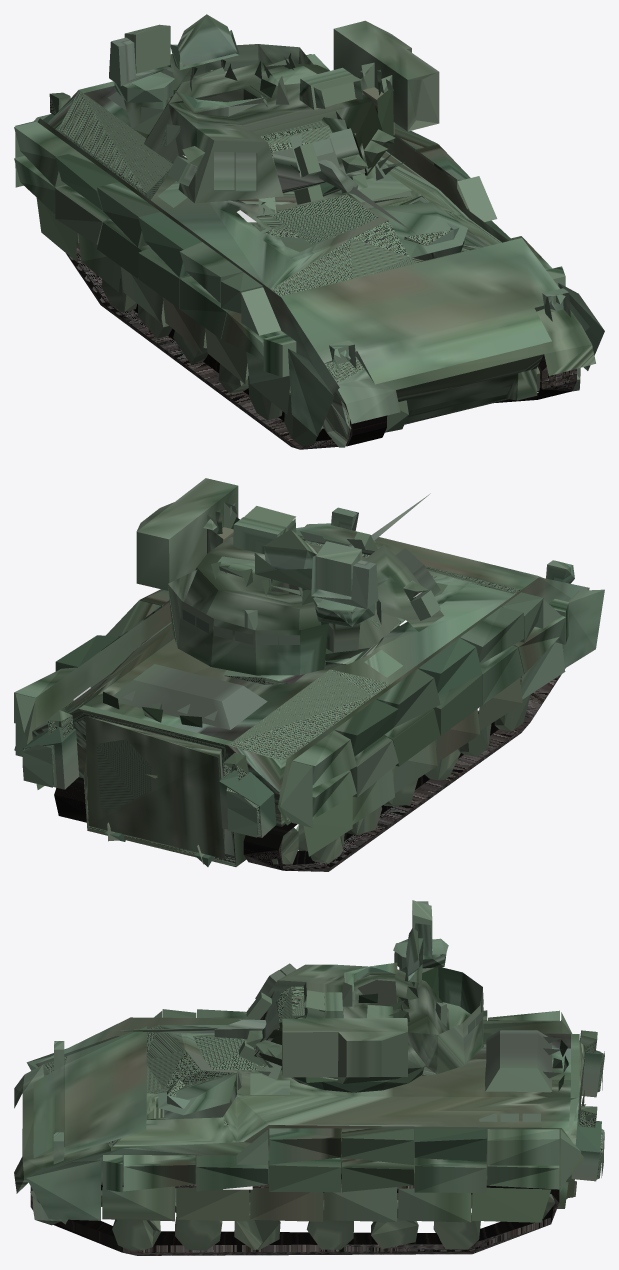
The picture shows the model from 3 angles, top to bottom: view 1: azimuth 30°, elevation 25°; view 2: azimuth 150°, elevation 25°; view 3: azimuth 270°, elevation 25°; orthographic projection. The views are drawn at different scales.
Parts seen in each view (by area): view 1: Object_4, Object_3; view 2: Object_4, Object_3; view 3: Object_4, Object_3.
Boxes of the visible parts, x1,y1,x2,y2 form: Object_4: (14, 14, 604, 447); Object_3: (66, 247, 576, 449); Object_4: (14, 478, 604, 866); Object_3: (54, 668, 565, 871); Object_4: (14, 900, 604, 1250); Object_3: (30, 1182, 559, 1255).
Bounding box in the file's own units: 3.51 × 3.35 × 6.81.
Materials: 3 (2 with a texture image).
